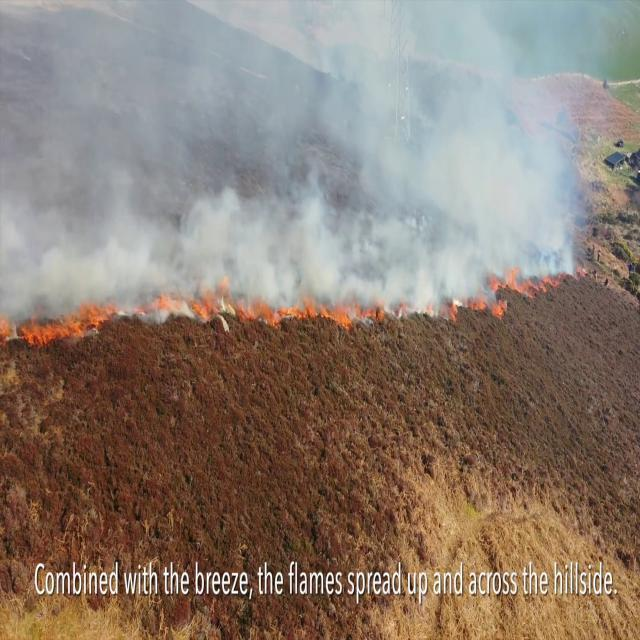Fire: (0, 299, 117, 347), (220, 279, 301, 329), (162, 276, 219, 325), (300, 291, 372, 323)
Smoke: (3, 4, 585, 269)
